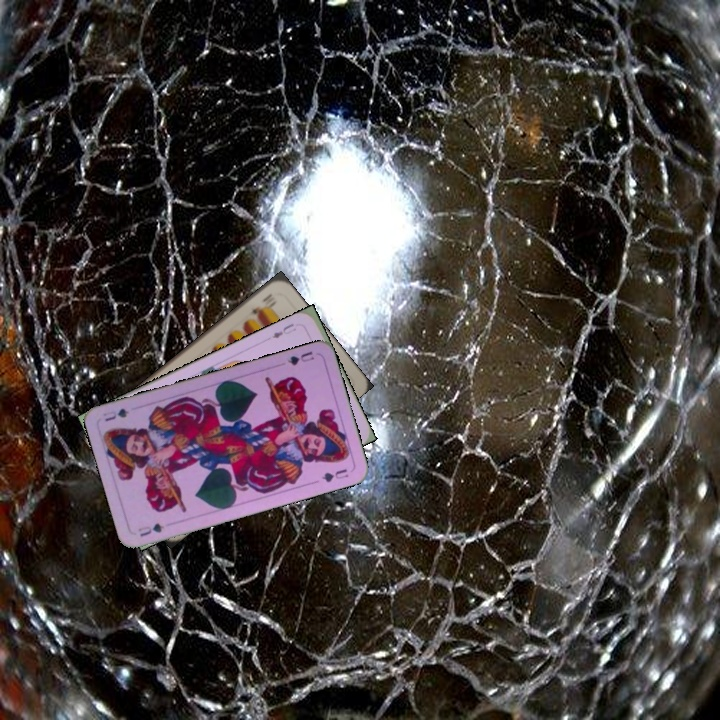E10: (248, 289, 278, 317)
EU: (268, 319, 299, 341)
GU: (283, 347, 316, 368), (134, 519, 167, 539)
